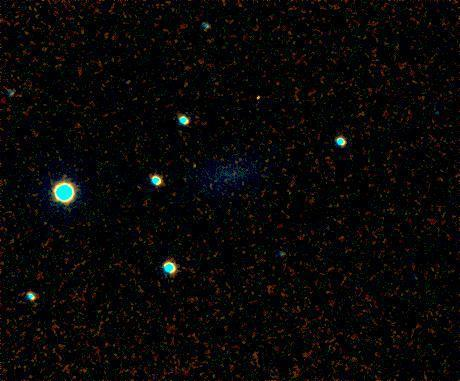star: (243, 89, 273, 119)
